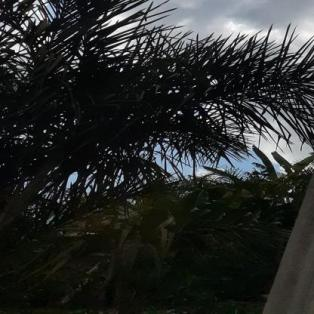Poste: (260, 0, 314, 314)
